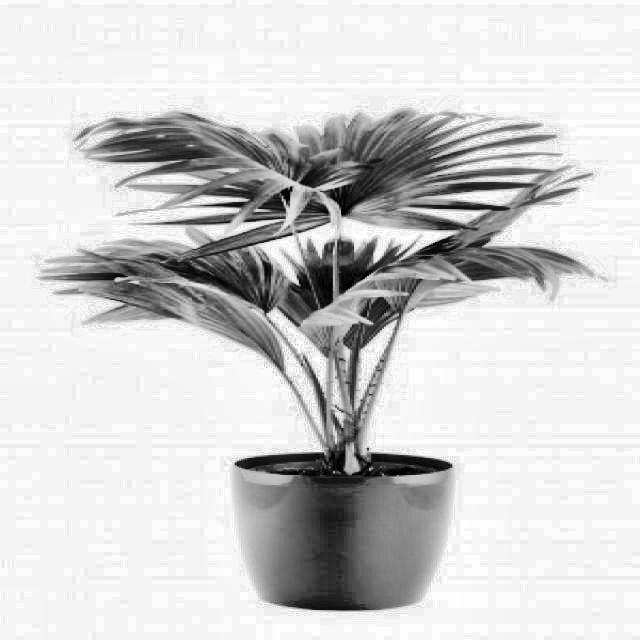plants: (59, 112, 580, 597)
